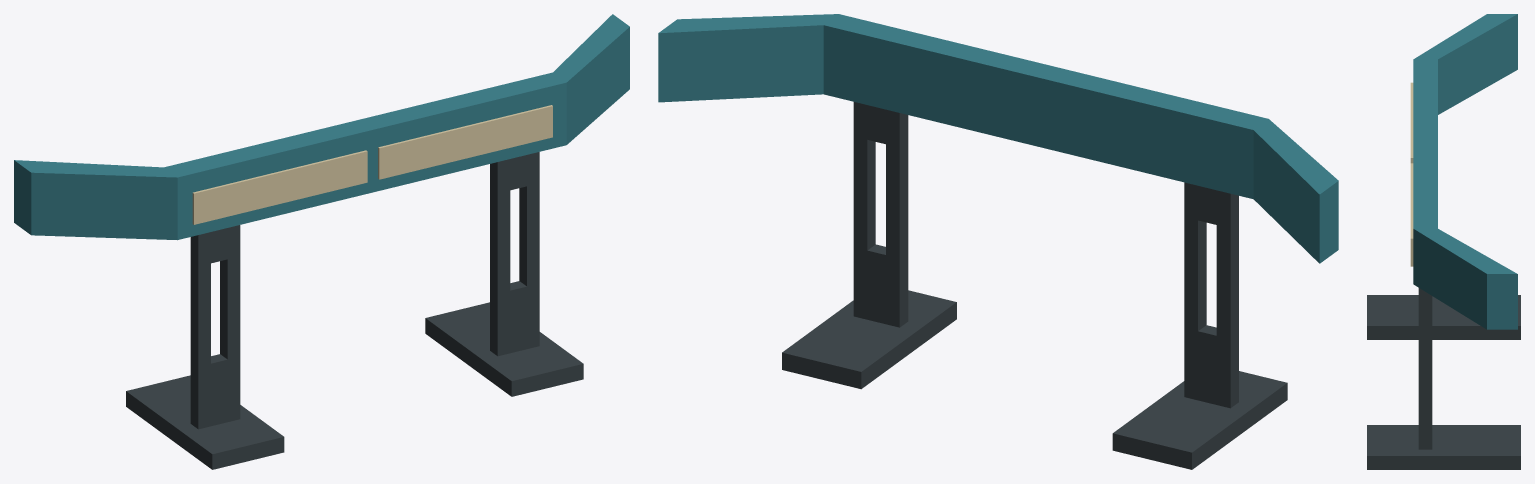
3 renders of one model, left to right at view 1: azimuth 30°, elevation 25°; view 2: azimuth 150°, elevation 25°; view 3: azimuth 270°, elevation 25°, orthographic. The views are drawn at different scales.
Visible parts, largest first — view 1: OneContinuousFlaredGuideWall, Left_ThroughSlotStanchion, Right_ThroughSlotStanchion, Left_BroadFlatFoot, Right_BroadFlatFoot, Left_FrontWearStrip, Right_FrontWearStrip; view 2: OneContinuousFlaredGuideWall, Right_ThroughSlotStanchion, Left_ThroughSlotStanchion, Left_BroadFlatFoot, Right_BroadFlatFoot; view 3: OneContinuousFlaredGuideWall, Right_BroadFlatFoot, Left_BroadFlatFoot, Right_ThroughSlotStanchion, Right_FrontWearStrip, Left_FrontWearStrip.
Part boxes in pixels (x1,y1,x2,y2): OneContinuousFlaredGuideWall: (14,14,629,240); Left_ThroughSlotStanchion: (190,225,240,429); Right_ThroughSlotStanchion: (490,152,539,356); Left_BroadFlatFoot: (126,375,284,469); Right_BroadFlatFoot: (425,302,583,396); Left_FrontWearStrip: (192,150,367,224); Right_FrontWearStrip: (378,105,552,179); OneContinuousFlaredGuideWall: (658,14,1338,263); Right_ThroughSlotStanchion: (853,102,908,327); Left_ThroughSlotStanchion: (1184,182,1238,408); Left_BroadFlatFoot: (1112,371,1287,469); Right_BroadFlatFoot: (782,290,956,389); OneContinuousFlaredGuideWall: (1413,14,1517,329); Right_BroadFlatFoot: (1367,425,1520,469); Left_BroadFlatFoot: (1367,295,1520,339); Right_ThroughSlotStanchion: (1418,288,1432,449); Right_FrontWearStrip: (1410,163,1413,266); Left_FrontWearStrip: (1410,82,1413,163).
Bounding box in the file's own units: 2 × 0.88 × 0.5.
